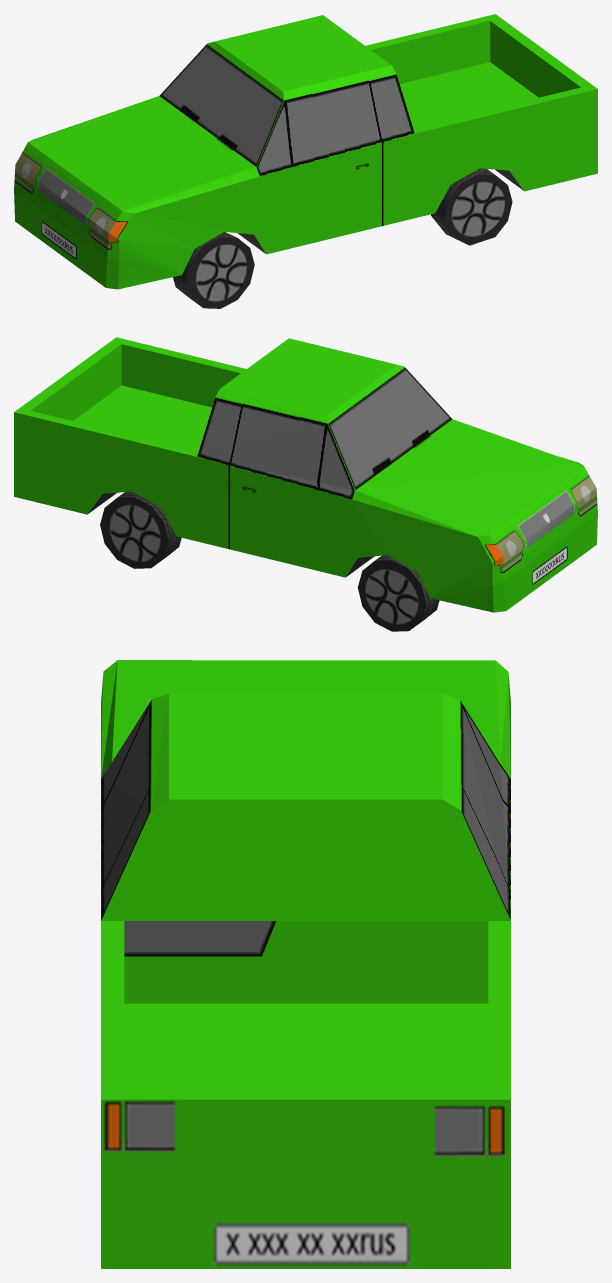
The model's file is pickup.FBX.
3 renders of one model, top to bottom at view 1: azimuth 30°, elevation 25°; view 2: azimuth 150°, elevation 25°; view 3: azimuth 270°, elevation 25°, orthographic. The views are drawn at different scales.
Parts seen in each view (by area): view 1: pickup; view 2: pickup; view 3: pickup.
Boxes of the visible parts, x1,y1,x2,y2 form: pickup: [14, 14, 597, 308]; pickup: [14, 337, 597, 631]; pickup: [101, 660, 510, 1268].
Bounding box in the file's own units: 139 × 51.38 × 50.74.
